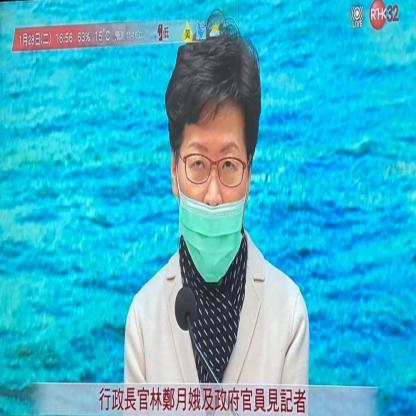Wearing_Mask: (177, 135, 248, 283)
